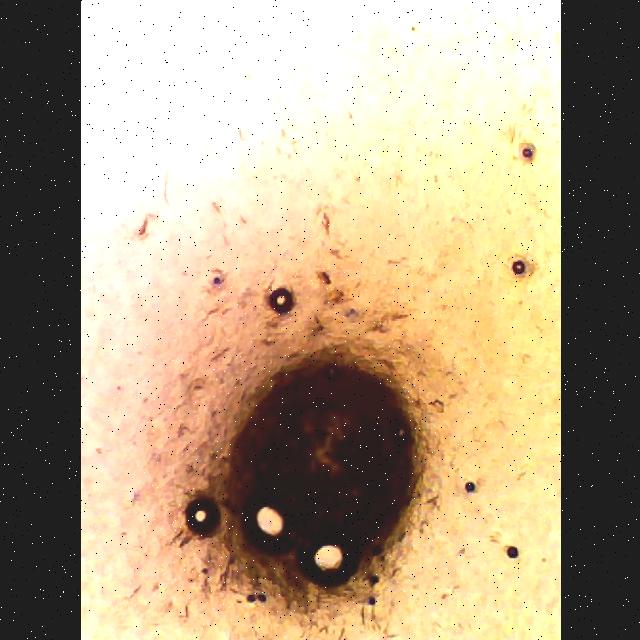microbeads: (180, 322, 448, 628)
